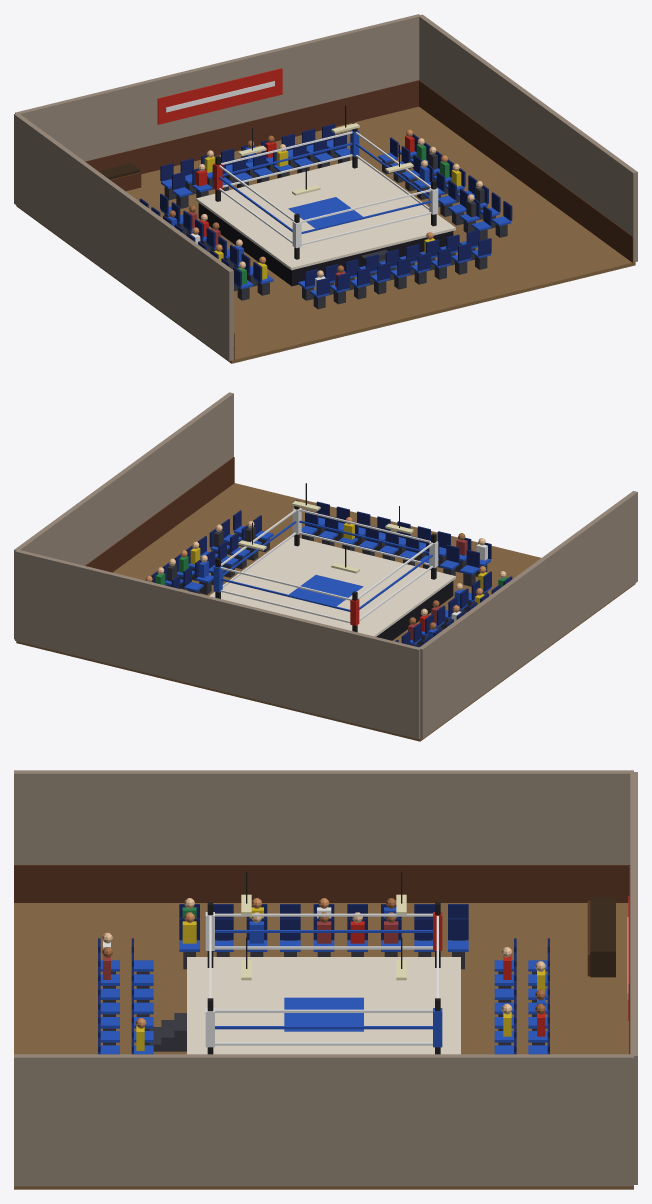
Rendered from escenario_club.obj.
The picture shows the model from 3 angles, top to bottom: view 1: azimuth 30°, elevation 25°; view 2: azimuth 150°, elevation 25°; view 3: azimuth 270°, elevation 25°; orthographic projection. The views are drawn at different scales.
Parts seen in each view (by area): view 1: piso, pared_fondo, pared_izq, pared_der, ring_lona, sillas_respaldo, friso_fondo, friso_der, sillas_pedestal, sillas_asiento, banner_fondo, ring_plataforma (+7 smaller); view 2: pared_fondo, pared_izq, pared_der, ring_lona, piso, sillas_respaldo, friso_der, sillas_asiento, sillas_pedestal, ring_cuerda_2, ring_cuerda_0, ring_cuerda_1 (+2 smaller); view 3: pared_der, pared_izq, piso, friso_izq, ring_lona, sillas_asiento, sillas_respaldo, pared_fondo, ring_emblema, ring_cuerda_2, barra_mostrador, ring_cuerda_0 (+5 smaller).
Boxes of the visible parts, x1,y1,x2,y2 form: piso: [16, 106, 635, 363]; pared_fondo: [15, 14, 420, 161]; pared_izq: [14, 113, 233, 360]; pared_der: [419, 14, 637, 262]; ring_lona: [196, 158, 455, 270]; sillas_respaldo: [139, 124, 512, 295]; friso_fondo: [85, 80, 419, 174]; friso_der: [419, 80, 633, 262]; sillas_pedestal: [164, 148, 507, 309]; sillas_asiento: [160, 139, 511, 297]; banner_fondo: [157, 68, 282, 124]; ring_plataforma: [198, 203, 453, 286]; pared_fondo: [15, 550, 421, 739]; pared_izq: [419, 491, 637, 738]; pared_der: [14, 392, 233, 639]; ring_lona: [209, 536, 455, 636]; piso: [16, 483, 635, 741]; sillas_respaldo: [145, 501, 512, 647]; friso_der: [85, 457, 234, 572]; sillas_asiento: [165, 517, 491, 644]; sillas_pedestal: [168, 525, 487, 646]; ring_cuerda_2: [220, 509, 432, 600]; ring_cuerda_0: [220, 532, 432, 623]; ring_cuerda_1: [220, 520, 432, 611]; pared_der: [14, 1054, 633, 1186]; pared_izq: [14, 770, 633, 864]; piso: [14, 903, 633, 1189]; friso_izq: [14, 865, 628, 902]; ring_lona: [187, 957, 460, 1054]; sillas_asiento: [100, 940, 547, 1054]; sillas_respaldo: [98, 904, 549, 1054]; pared_fondo: [630, 772, 637, 1184]; ring_emblema: [284, 997, 363, 1031]; ring_cuerda_2: [209, 913, 438, 1012]; barra_mostrador: [590, 897, 615, 977]; ring_cuerda_0: [215, 946, 432, 1045].
Size of the model in its own units: 26.3 by 6.1 by 24.15.
